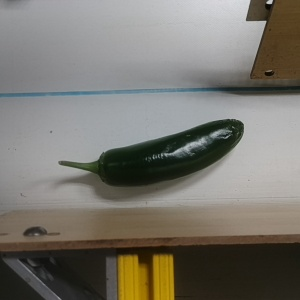Cut Point: (90, 148, 117, 187)
